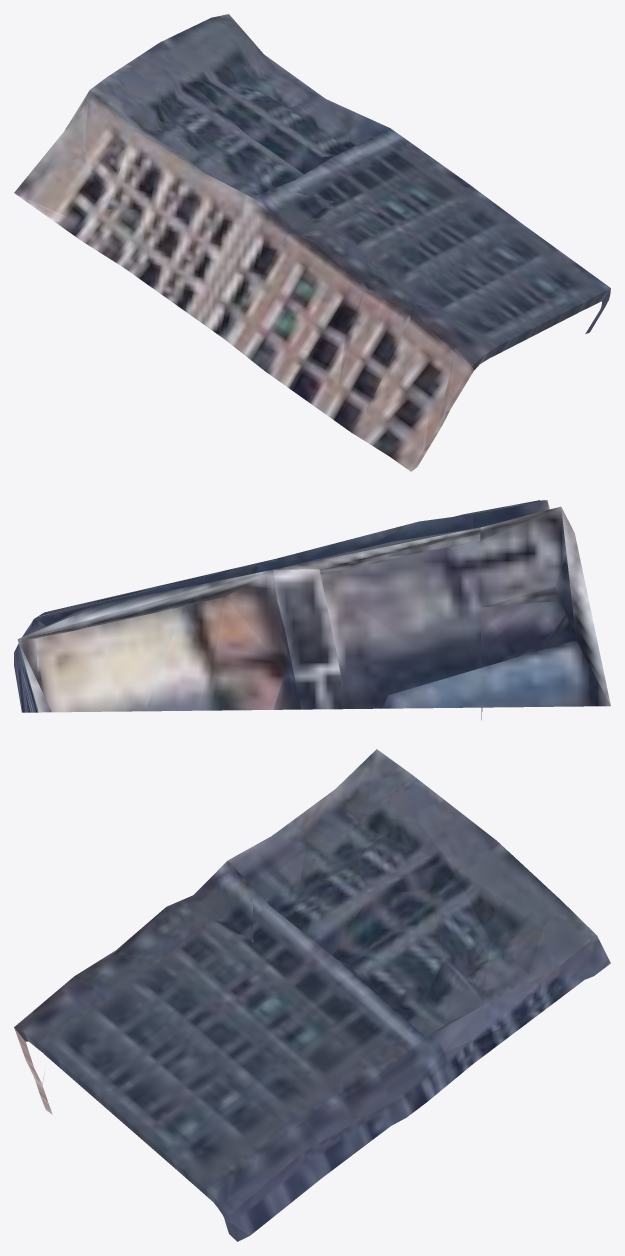
The picture shows the model from 3 angles, top to bottom: view 1: azimuth 30°, elevation 25°; view 2: azimuth 150°, elevation 25°; view 3: azimuth 270°, elevation 25°; orthographic projection. The views are drawn at different scales.
Size of the model in its own units: 39.4 by 22.32 by 41.87.
1 material, 1 textured.
